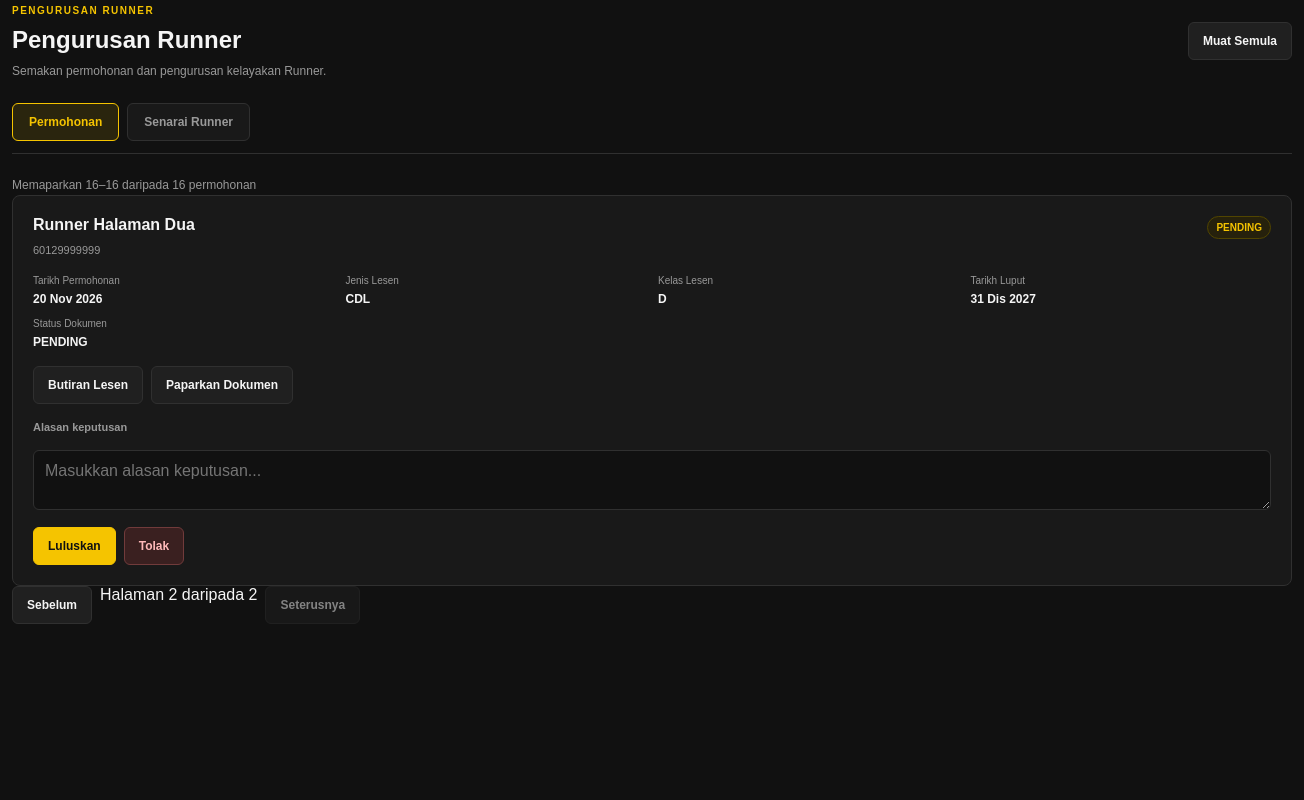
Test: RunnerApplicationsPage › memuatkan halaman sebelumnya apabila diminta
Expected: the heading "Runner Halaman Dua" is shown, left=33, top=216, right=195, bottom=234
Click the button "Sebelum".
click(52, 605)  # box left=12, top=586, right=92, bottom=624
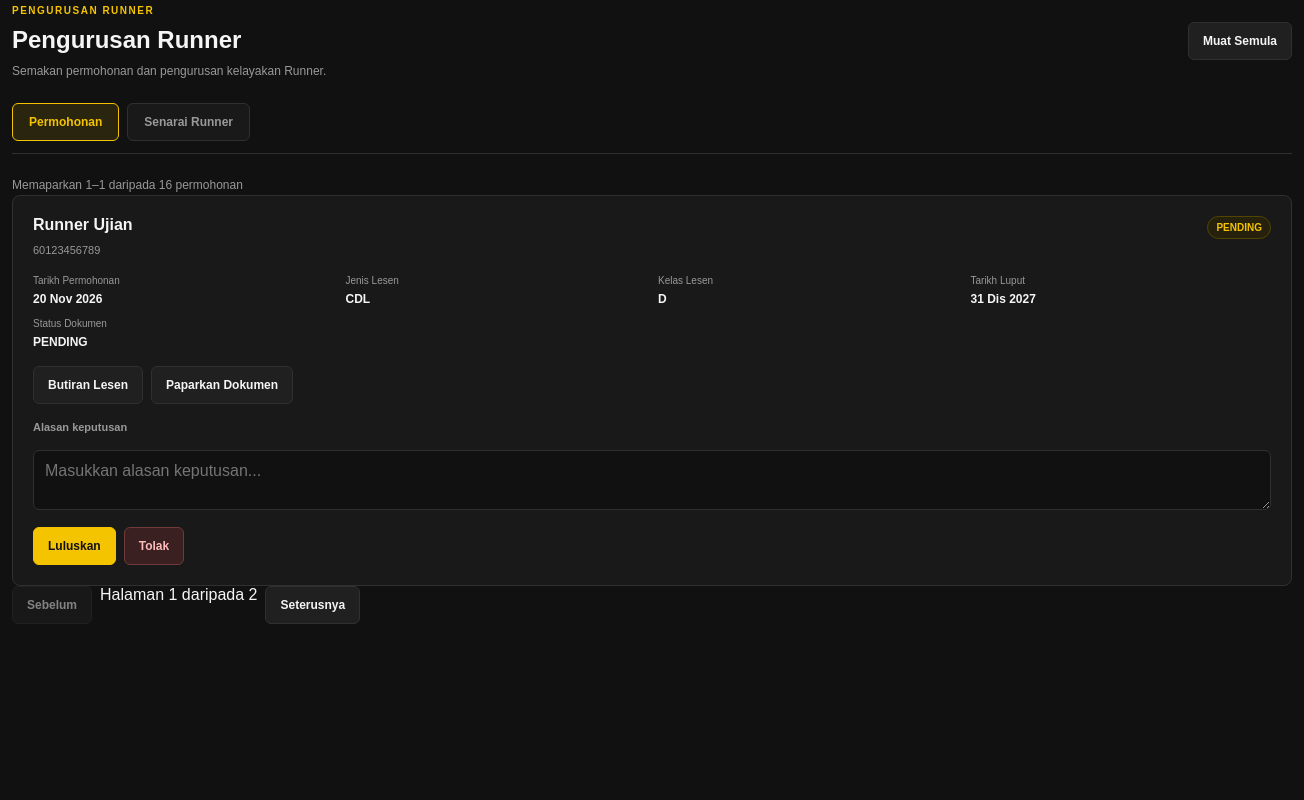
Result: the heading "Runner Ujian" is shown at left=33, top=216, right=133, bottom=234
